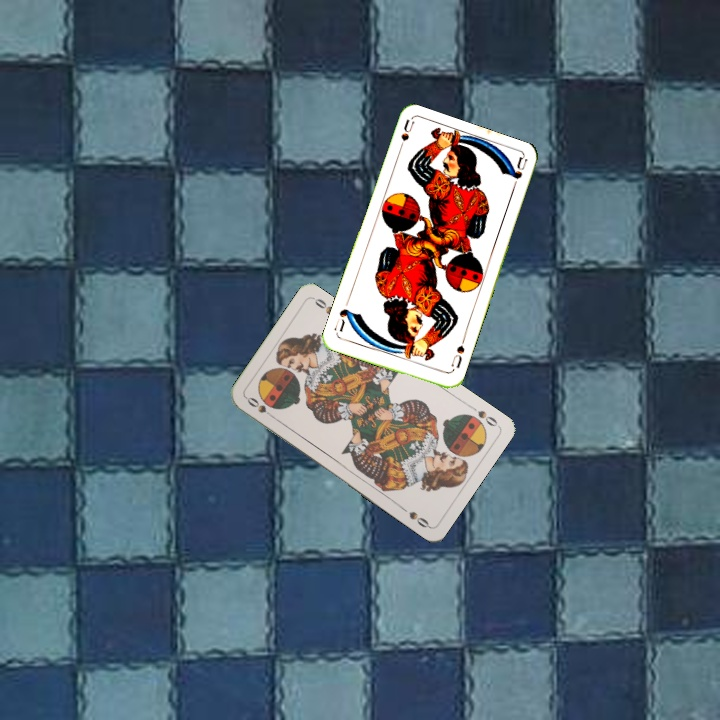SO: (242, 393, 278, 422), (474, 406, 500, 429)
SU: (394, 117, 416, 157), (447, 335, 467, 371)
